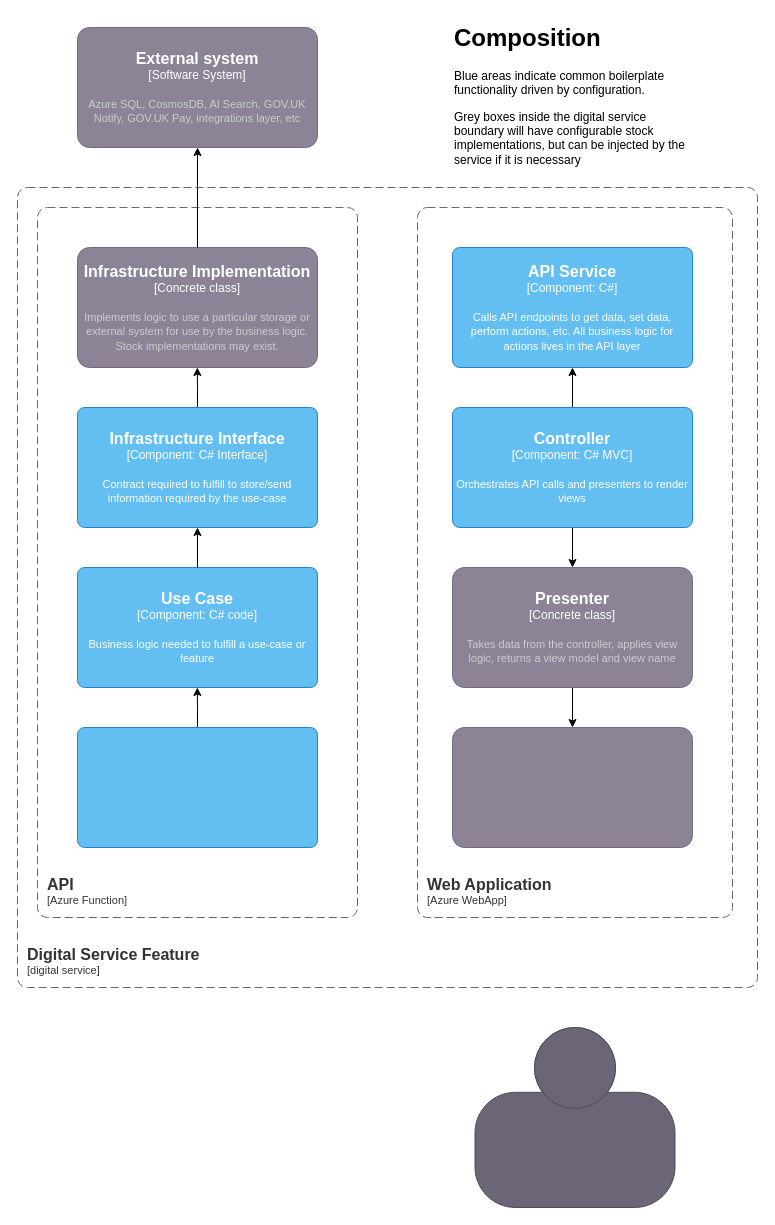
This 775x1225 diagram has some shape labels left out. Here are the shapes that lost their labels. From the top down, the centre of each, then its label:
At pixel 197 787: "Http Trigger [Component: Azure function] Calls business logic, performs action".
At pixel 572 787: "View [CSHTML] Takes ViewModel from presenter and renders HTML".
At pixel 574 1117: "Internal, External, Public user [Person] Any person using a digital service".
